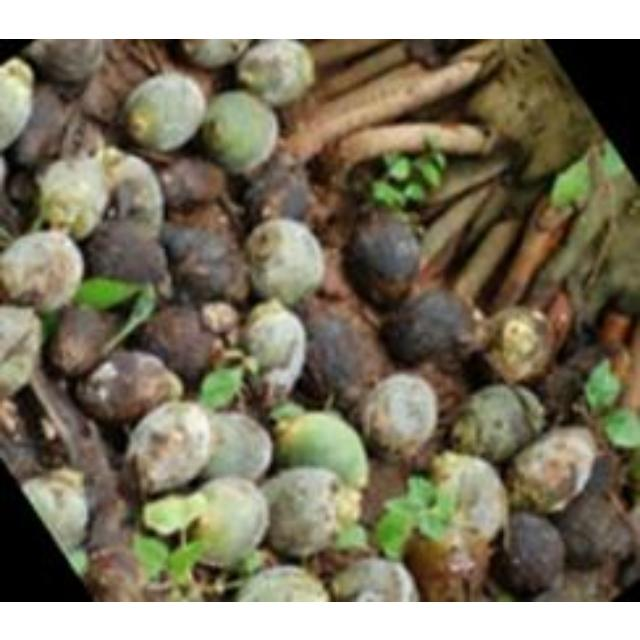damaged: (123, 400, 214, 498), (298, 308, 384, 410), (78, 348, 182, 428), (182, 476, 272, 568), (506, 424, 596, 514), (382, 287, 482, 368), (272, 409, 370, 489), (260, 467, 344, 558), (345, 208, 423, 306), (160, 222, 250, 306), (450, 382, 544, 462), (424, 453, 506, 543), (361, 372, 442, 461), (0, 229, 84, 313), (122, 70, 206, 152), (245, 216, 323, 304), (404, 525, 494, 601), (138, 304, 222, 384), (52, 402, 118, 502), (200, 88, 278, 172), (84, 216, 170, 290), (556, 481, 630, 567), (36, 154, 110, 238), (480, 304, 554, 384), (496, 510, 564, 594), (21, 472, 89, 556), (140, 39, 220, 110), (11, 85, 78, 168), (47, 304, 121, 378), (88, 282, 160, 358), (468, 62, 544, 134), (200, 411, 274, 484), (236, 38, 314, 106), (544, 342, 612, 420), (242, 154, 314, 226), (100, 150, 164, 230), (77, 51, 143, 126), (0, 306, 46, 398), (159, 154, 229, 213), (330, 555, 418, 601), (409, 362, 469, 428), (314, 180, 366, 256), (24, 38, 104, 86), (358, 459, 414, 525), (588, 158, 636, 235), (169, 196, 243, 244), (235, 564, 332, 600), (84, 545, 146, 601), (0, 56, 34, 150), (26, 406, 74, 472), (86, 494, 134, 556), (514, 142, 574, 188), (373, 504, 419, 556), (550, 154, 594, 208), (316, 250, 359, 304), (161, 540, 209, 586), (4, 168, 42, 225), (182, 38, 252, 68), (160, 222, 210, 264), (258, 362, 302, 408), (120, 39, 170, 79), (180, 564, 232, 602), (2, 440, 46, 484), (66, 118, 108, 164), (430, 449, 478, 489), (133, 534, 169, 580), (534, 193, 574, 233), (602, 407, 640, 448), (596, 310, 632, 352), (406, 38, 450, 68), (597, 139, 627, 181), (610, 280, 640, 320), (369, 179, 407, 209), (0, 392, 24, 438), (610, 339, 634, 385), (98, 144, 128, 176), (416, 156, 444, 188), (385, 154, 413, 182)
